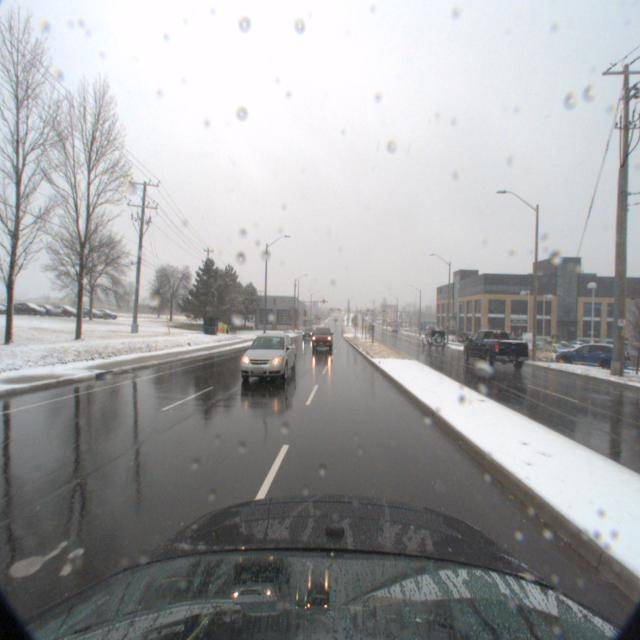Car: (240, 330, 304, 386), (554, 338, 638, 374), (422, 324, 450, 346), (312, 322, 334, 346)
Truck: (460, 325, 542, 375)
